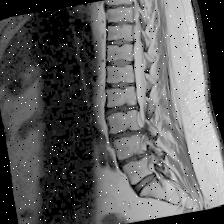disc: (101, 73, 138, 93), (103, 52, 137, 72), (103, 14, 137, 32), (104, 32, 137, 50), (102, 0, 137, 16)
hdisc: (104, 120, 152, 146), (111, 146, 161, 168), (101, 99, 143, 121)
